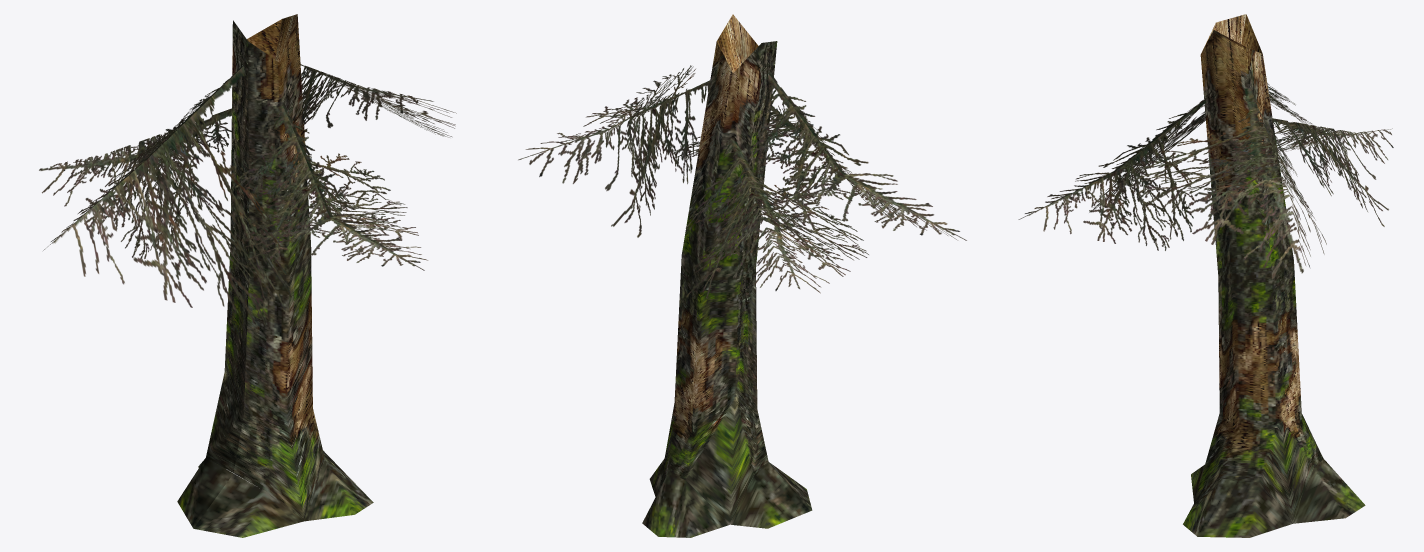
Rendered from tree4_16g.glb.
3 renders of one model, left to right at view 1: azimuth 30°, elevation 25°; view 2: azimuth 150°, elevation 25°; view 3: azimuth 270°, elevation 25°, orthographic. The views are drawn at different scales.
Visible parts, largest first — view 1: tree4_16g-col; view 2: tree4_16g-col; view 3: tree4_16g-col.
Part boxes in pixels (x1,y1,x2,y2): tree4_16g-col: (39,14,456,537); tree4_16g-col: (518,14,966,537); tree4_16g-col: (1018,14,1393,537).
Size of the model in its own units: 10.41 by 10.43 by 7.97.
3 materials, 3 textured.
